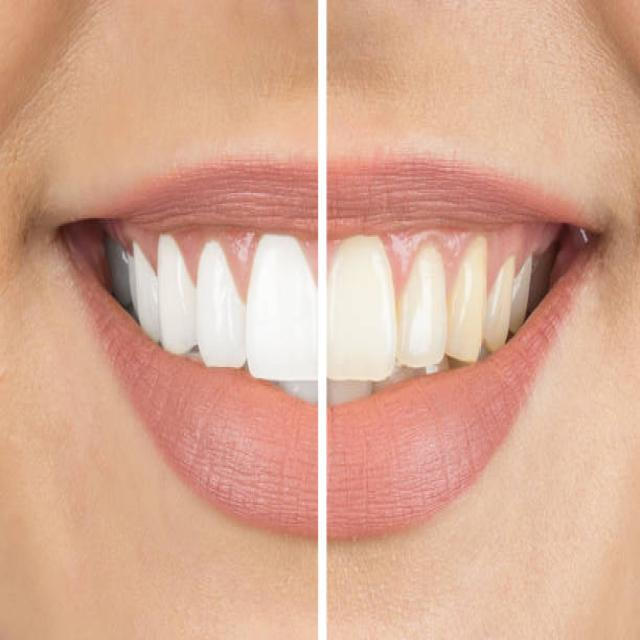tooth: (249, 234, 324, 386), (332, 243, 400, 377), (196, 243, 244, 370), (152, 236, 196, 354), (404, 253, 446, 367), (452, 245, 489, 353), (128, 252, 156, 332), (492, 262, 510, 337), (110, 243, 128, 304), (515, 260, 531, 320)
